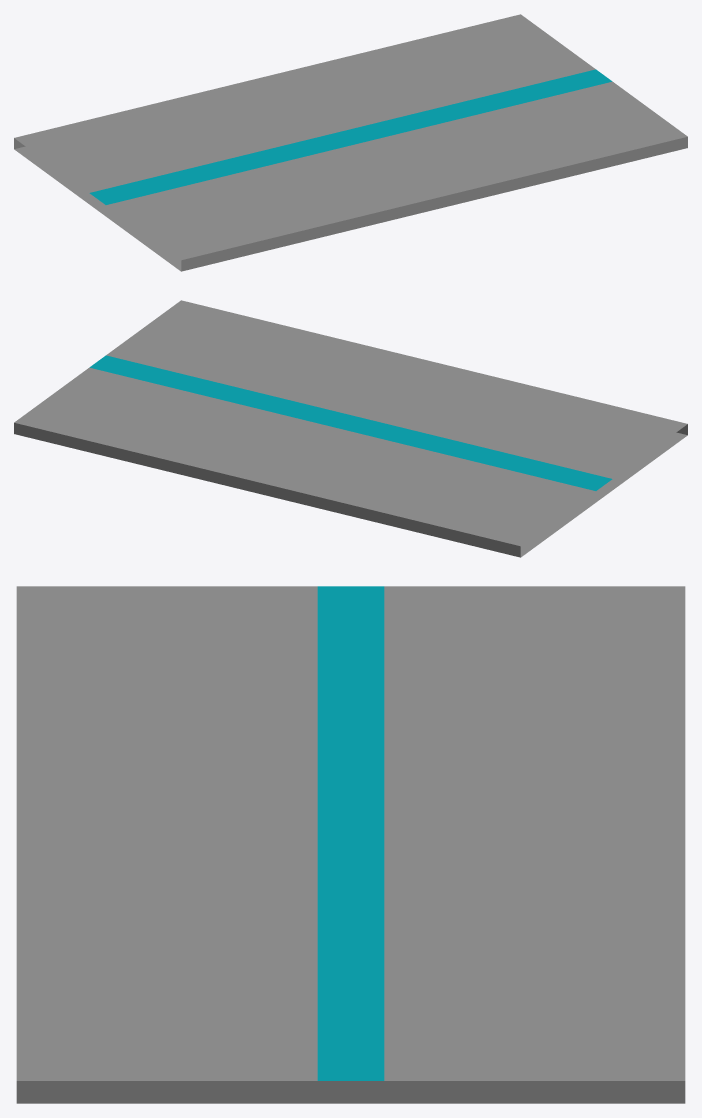
The model's file is mesh_road_straight_01_norails.FBX.
3 renders of one model, top to bottom at view 1: azimuth 30°, elevation 25°; view 2: azimuth 150°, elevation 25°; view 3: azimuth 270°, elevation 25°, orthographic. The views are drawn at different scales.
Parts seen in each view (by area): view 1: Box001; view 2: Box001; view 3: Box001.
Boxes of the visible parts, left/top/right/bottom form: Box001: left=14, top=14, right=687, bottom=271; Box001: left=14, top=300, right=687, bottom=557; Box001: left=16, top=586, right=685, bottom=1103.
Bounding box in the file's own units: 70 × 1.5 × 40.
